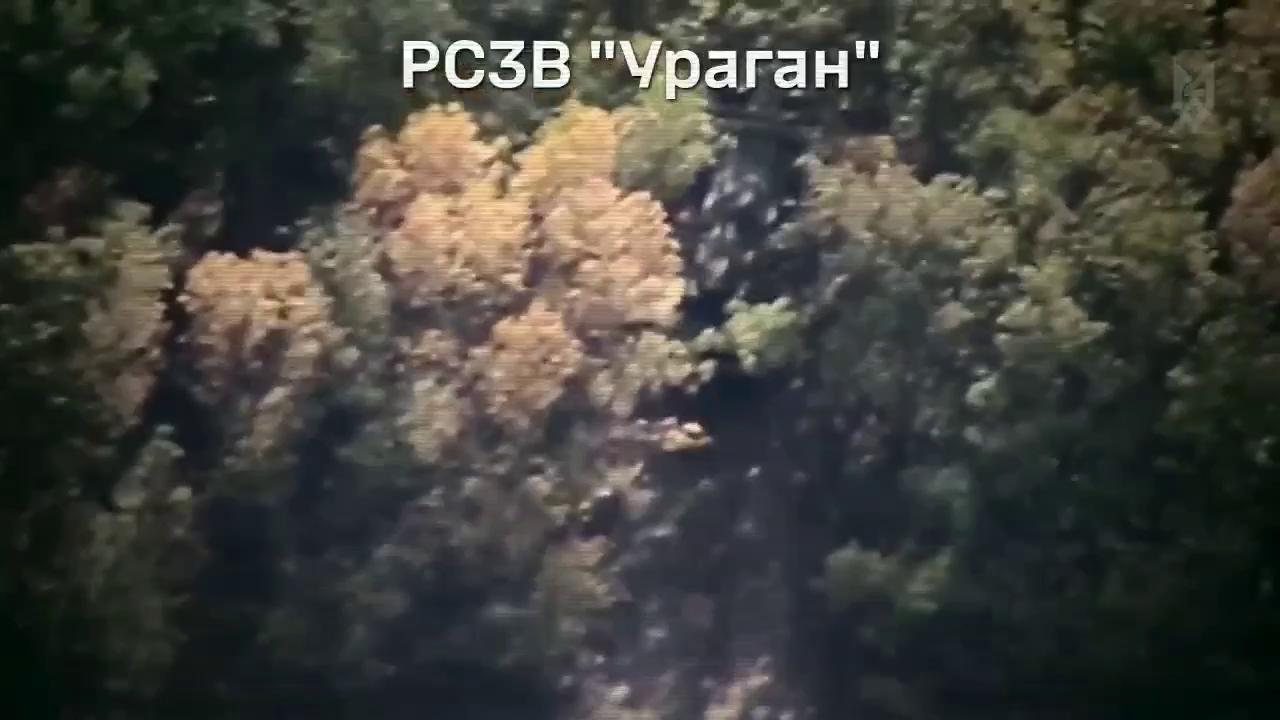tank: (685, 125, 794, 314)
